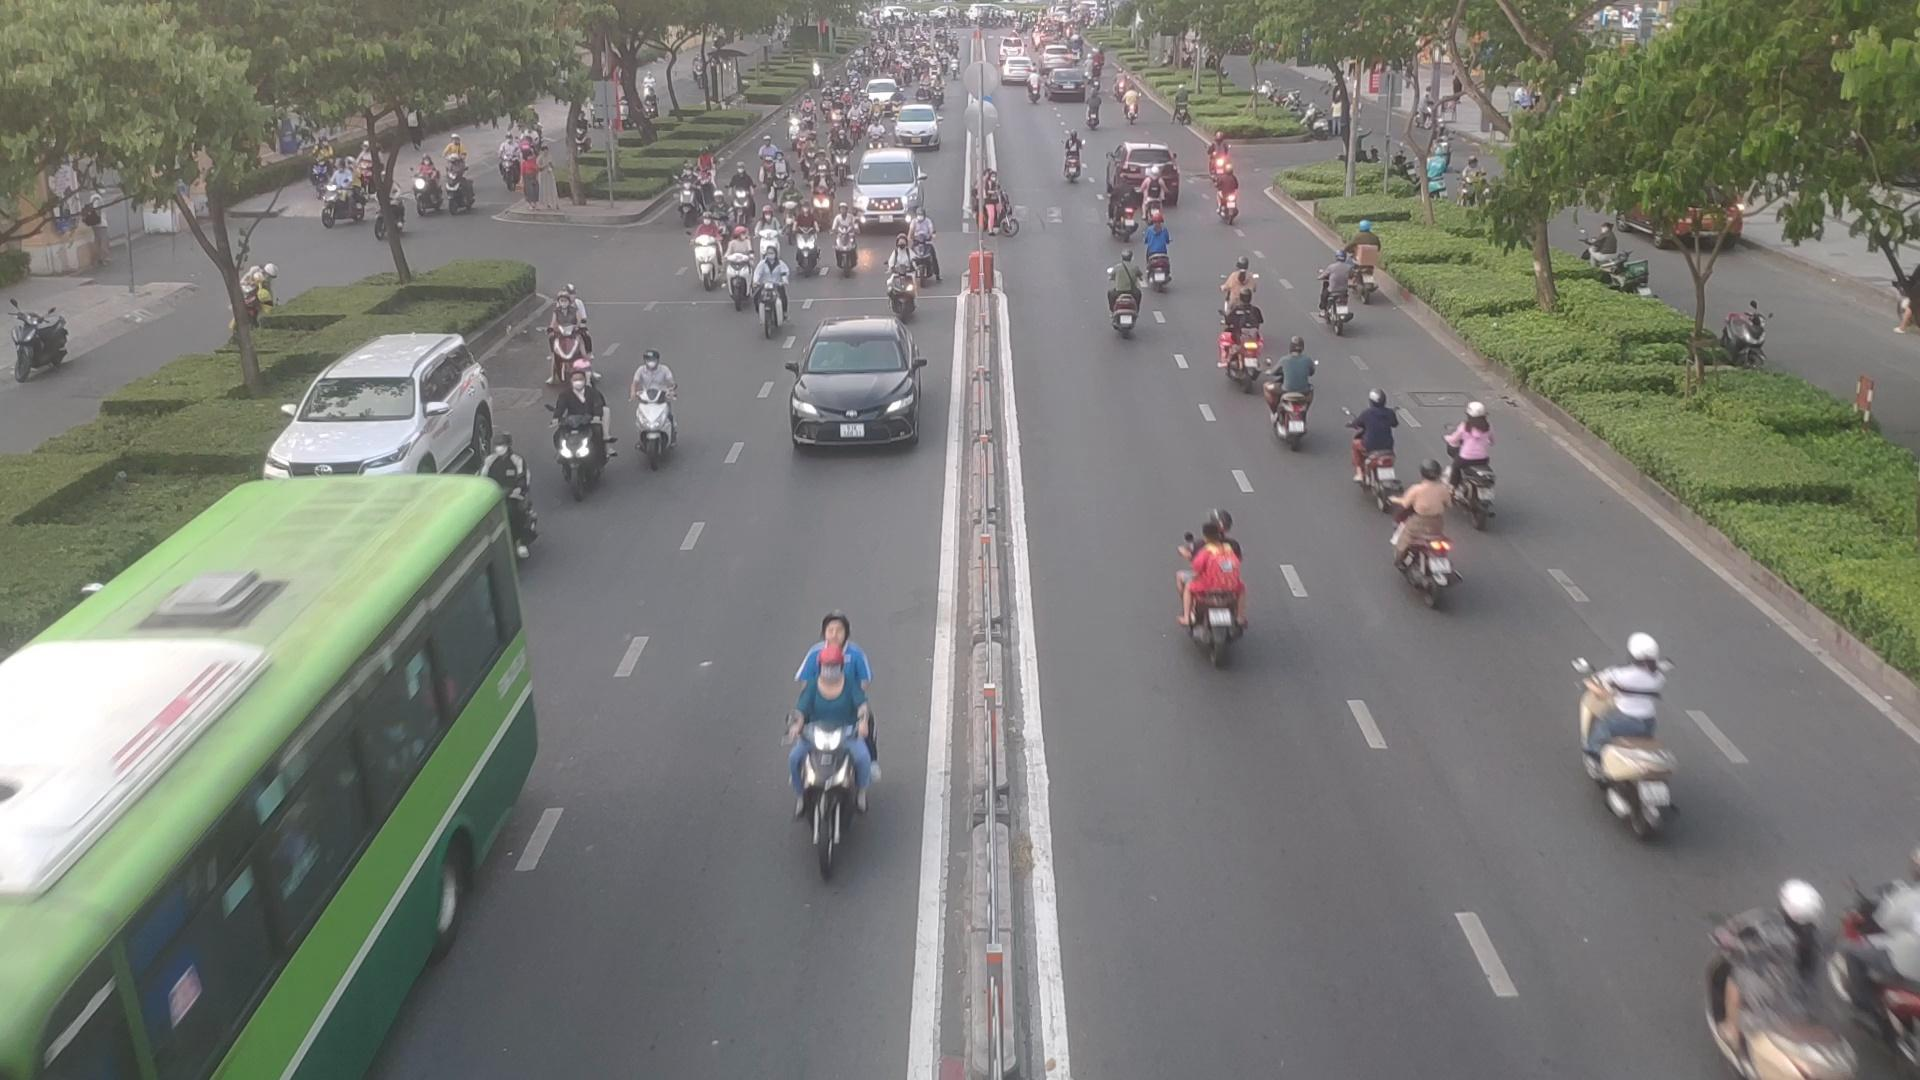bus: (0, 479, 535, 1079)
car: (272, 330, 512, 477), (782, 322, 924, 451)
motorbike: (1693, 865, 1898, 1077), (771, 629, 887, 876), (1578, 667, 1691, 837), (1175, 512, 1263, 661), (1389, 477, 1480, 607), (555, 357, 622, 496), (1345, 390, 1411, 498), (628, 349, 688, 458), (1447, 409, 1505, 521), (1269, 328, 1319, 454), (1316, 237, 1386, 316), (547, 287, 605, 380), (1096, 255, 1153, 342), (1224, 287, 1266, 389), (688, 214, 741, 290), (742, 257, 793, 338), (794, 200, 847, 276), (971, 175, 1025, 241), (884, 229, 920, 316), (1139, 223, 1179, 289), (1209, 160, 1247, 225), (1056, 137, 1091, 187)
